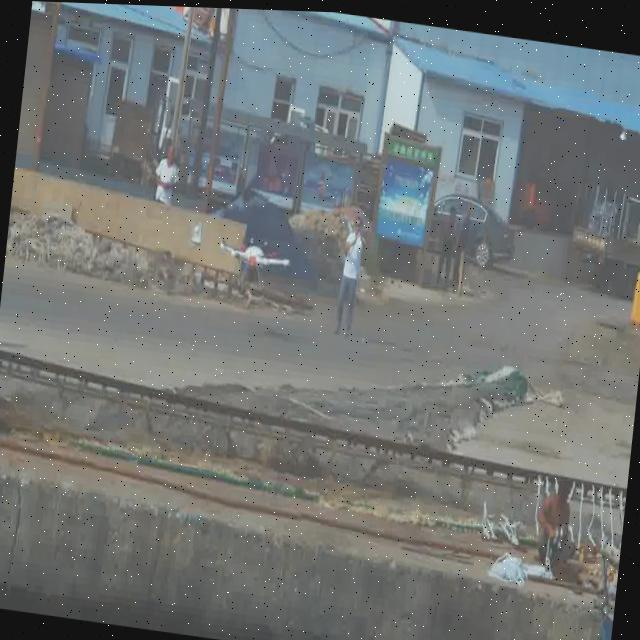drone: (212, 224, 292, 290)
